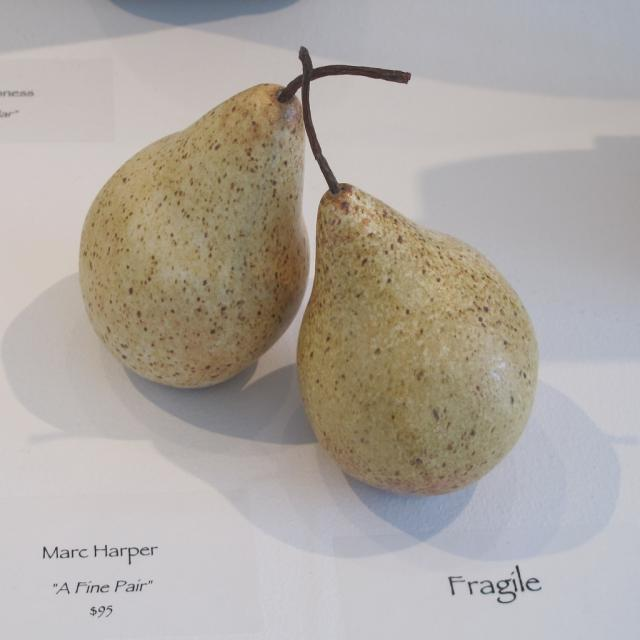pear: (296, 182, 540, 493), (80, 82, 318, 384)
